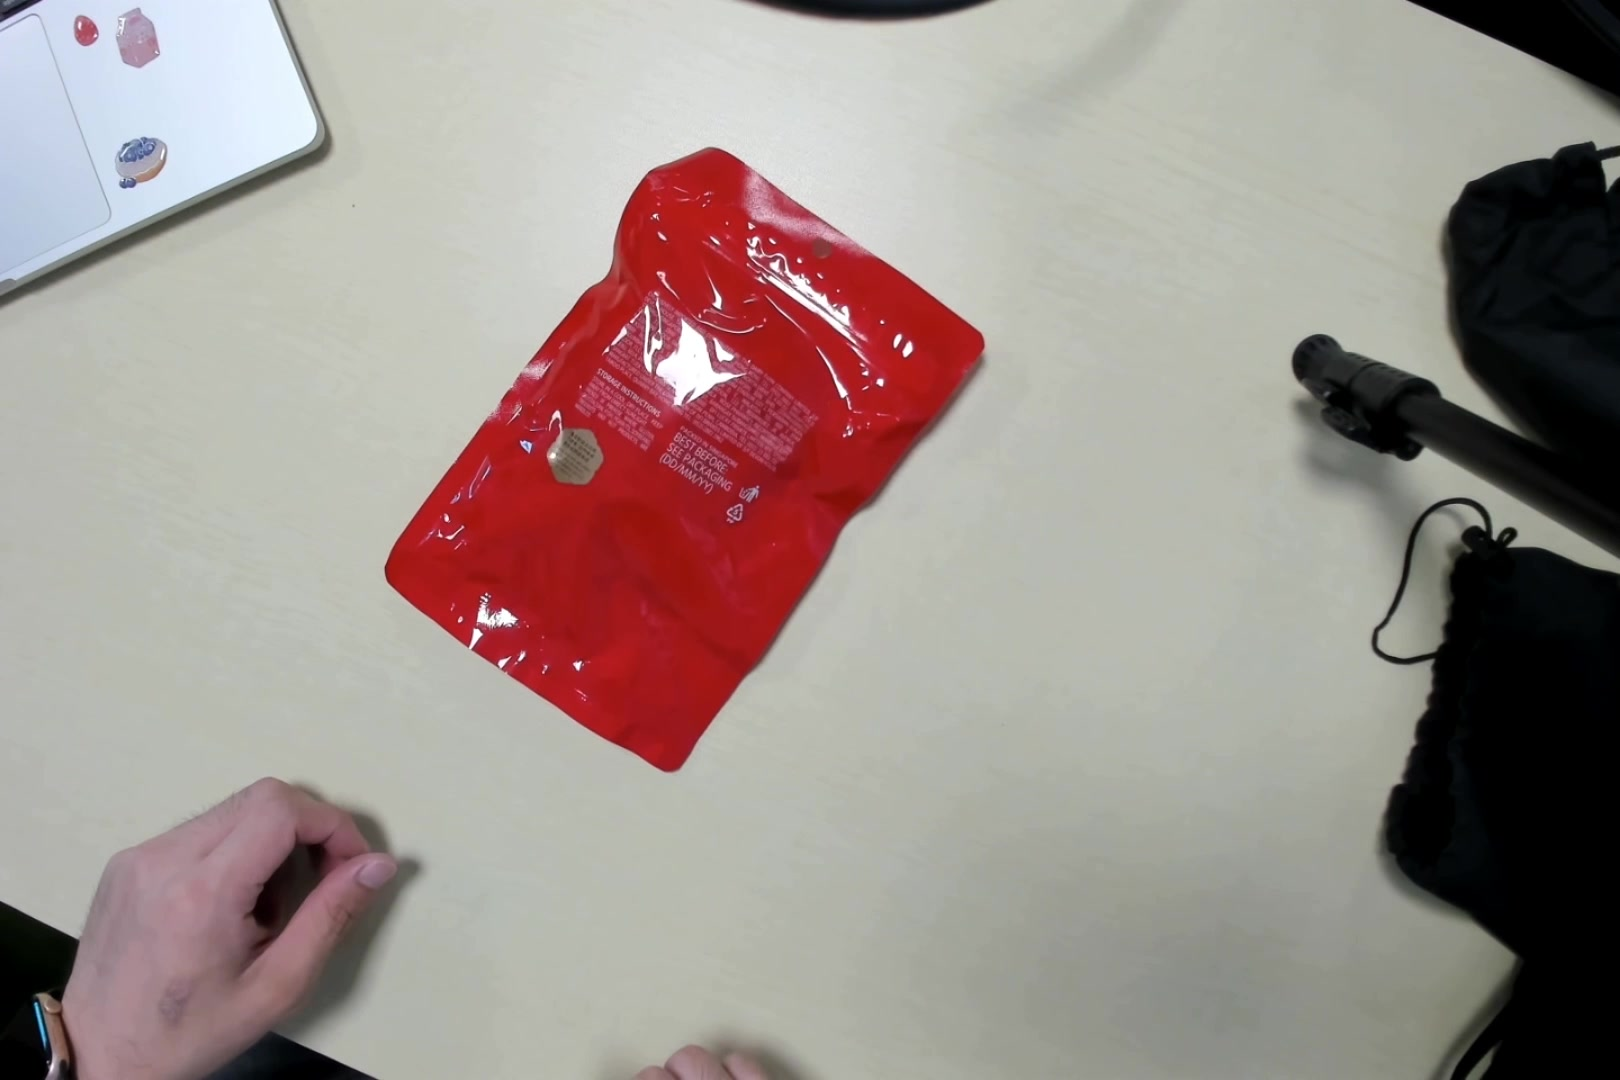DriedMeatSeafood_100-199g_NonHalal_NonHealthy: (413, 143, 984, 757)
